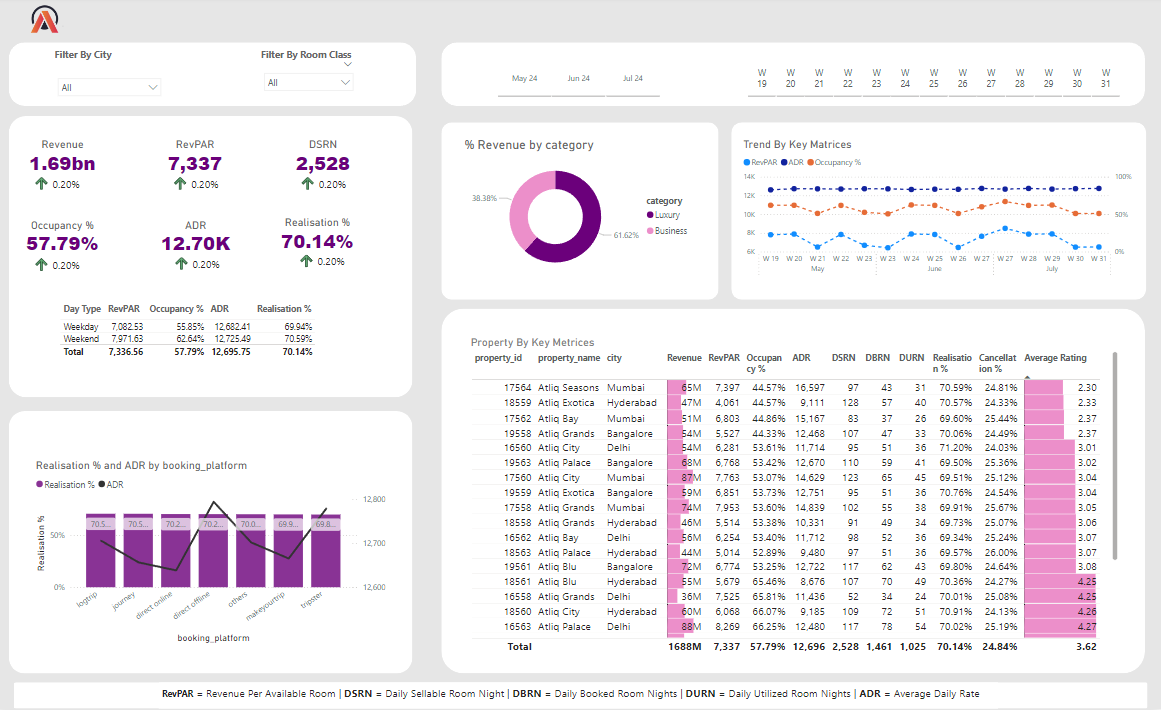

The page's visual inventory and layout, read from the dashboard file:
{"tool":"powerbi","page":{"name":"Hotel Management","canvas":[1800,1100],"ordinal":0},"visuals":[{"type":"shape","box":[1136.6,194.9,640.7,274],"z":0},{"type":"lineChart","title":"Trend By Key Matrices ","fields":{"Category":["dim_date.mmm yy.Variation.Date Hierarchy.Month","dim_date.week no"],"Y":["key_measures.RevPAR","key_measures.ADR"],"Y2":["key_measures.Occupancy %"]},"box":[1150.1,218.1,609.8,223.8],"z":1000},{"type":"shape","box":[688.9,194.9,428.4,274],"z":2000},{"type":"donutChart","title":"% Revenue by category","fields":{"Y":["key_measures.Revenue"],"Category":["dim_hotels.category"]},"box":[719.8,218.1,364.7,223.8],"z":3000},{"type":"shape","box":[21.2,185.2,623.3,434.2],"z":4000},{"type":"tableEx","fields":{"Values":["key_measures.Revenue WoW change %"]},"box":[50.2,243.1,123.5,73.3],"z":5000},{"type":"card","title":"Revenue","fields":{"Values":["key_measures.Revenue"]},"box":[28.9,218.1,150.5,61.7],"z":6000},{"type":"tableEx","fields":{"Values":["dim_date.day_type","key_measures.RevPAR","key_measures.Occupancy %","key_measures.ADR","key_measures.Realisation %"]},"box":[94.6,468.9,430.3,111.9],"z":7000},{"type":"tableEx","fields":{"Values":["key_measures.Revenue WoW change %"]},"box":[264.4,243.1,127.4,73.3],"z":8000},{"type":"card","title":"RevPAR","fields":{"Values":["key_measures.RevPAR"]},"box":[250.9,218.1,115.8,61.7],"z":9000},{"type":"tableEx","fields":{"Values":["key_measures.Revenue WoW change %"]},"box":[461.2,243.1,117.7,73.3],"z":10000},{"type":"card","title":"DSRN","fields":{"Values":["key_measures.DSRN"]},"box":[449.6,218.1,113.9,61.7],"z":11000},{"type":"tableEx","fields":{"Values":["key_measures.Revenue WoW change %"]},"box":[50.2,368.6,123.5,73.3],"z":12000},{"type":"card","title":"Occupancy %","fields":{"Values":["key_measures.Occupancy %"]},"box":[34.7,343.5,138.9,59.8],"z":13000},{"type":"tableEx","fields":{"Values":["key_measures.Revenue WoW change %"]},"box":[266.3,366.6,125.4,73.3],"z":14000},{"type":"card","title":"ADR","fields":{"Values":["key_measures.ADR"]},"box":[245.1,343.5,129.3,59.8],"z":15000},{"type":"tableEx","fields":{"Values":["key_measures.Revenue WoW change %"]},"box":[459.3,362.8,119.6,73.3],"z":16000},{"type":"card","title":"Realisation %","fields":{"Values":["key_measures.Realisation %"]},"box":[432.2,339.6,131.2,59.8],"z":17000},{"type":"shape","box":[21.2,71.4,629.1,98.4],"z":18000},{"type":"slicer","title":"Filter By City","fields":{"Values":["dim_hotels.city"]},"box":[86.8,79.1,179.5,84.9],"z":19000},{"type":"slicer","title":"Filter By Room Class","fields":{"Values":["dim_rooms.room_class"]},"box":[405.2,79.1,158.2,84.9],"z":20000},{"type":"shape","box":[688.9,71.4,1086.4,98.4],"z":21000},{"type":"slicer","fields":{"Values":["dim_date.mmm yy"]},"box":[750.6,92.6,299.1,69.5],"z":22000},{"type":"slicer","fields":{"Values":["dim_date.week no"]},"box":[1136.6,92.6,623.3,69.5],"z":23000},{"type":"shape","box":[21.2,640.7,623.3,405.2],"z":24000},{"type":"lineStackedColumnComboChart","fields":{"Category":["fact_bookings.booking_platform"],"Y":["key_measures.Realisation %"],"Y2":["key_measures.ADR"]},"box":[57.9,714,550,289.5],"z":25000},{"type":"shape","box":[688.9,482.4,1086.4,563.5],"z":26000},{"type":"tableEx","title":"Property By Key Metrices","fields":{"Values":["dim_hotels.property_id","dim_hotels.property_name","dim_hotels.city","key_measures.Revenue","key_measures.RevPAR","key_measures.Occupancy %","key_measures.ADR","key_measures.DSRN","key_measures.DBRN","key_measures.DURN","key_measures.Realisation %","key_measures.Cancellation %"]},"box":[729.4,524.9,1009.2,494],"z":27000},{"type":"shape","box":[28.9,1059.4,1750.2,40.5],"z":28000},{"type":"textbox","box":[252.6,1059.4,1294.8,40.5],"z":29000},{"type":"image","box":[21.2,0,106.1,71.4],"z":29001}]}

Visuals, with their boxes in screenshot pixels (x1, y1, x2, y2), scaled from the page's 1800x1100 canvas onto the 1161x710 screenshot:
shape: 733,126,1146,303
"Trend By Key Matrices " lineChart: 742,141,1135,285
shape: 444,126,721,303
"% Revenue by category" donutChart: 464,141,700,285
shape: 14,120,416,400
tableEx - key_measures.Revenue WoW change %: 32,157,112,204
"Revenue" card: 19,141,116,181
tableEx - dim_date.day_type x key_measures.RevPAR: 61,303,339,375
tableEx - key_measures.Revenue WoW change %: 171,157,253,204
"RevPAR" card: 162,141,237,181
tableEx - key_measures.Revenue WoW change %: 297,157,373,204
"DSRN" card: 290,141,363,181
tableEx - key_measures.Revenue WoW change %: 32,238,112,285
"Occupancy %" card: 22,222,112,260
tableEx - key_measures.Revenue WoW change %: 172,237,253,284
"ADR" card: 158,222,241,260
tableEx - key_measures.Revenue WoW change %: 296,234,373,281
"Realisation %" card: 279,219,363,258
shape: 14,46,419,110
"Filter By City" slicer: 56,51,172,106
"Filter By Room Class" slicer: 261,51,363,106
shape: 444,46,1145,110
slicer - dim_date.mmm yy: 484,60,677,105
slicer - dim_date.week no: 733,60,1135,105
shape: 14,414,416,675
lineStackedColumnComboChart - fact_bookings.booking_platform x key_measures.Realisation %: 37,461,392,648
shape: 444,311,1145,675
"Property By Key Metrices" tableEx: 470,339,1121,658
shape: 19,684,1148,709
textbox: 163,684,998,709
image: 14,0,82,46
